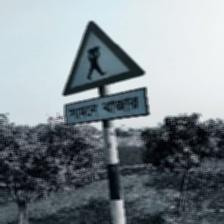Market-in-front: (61, 19, 150, 127)
